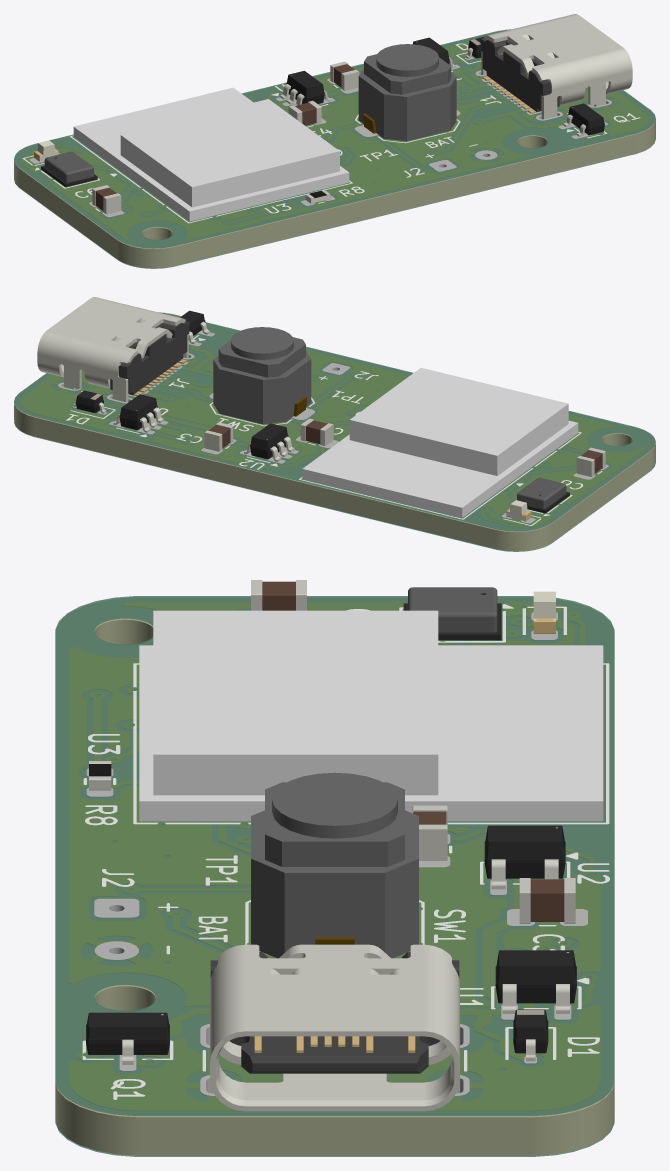
Rendered from board.glb.
3 views of the same model, one above another, from view 1: azimuth 30°, elevation 25°; view 2: azimuth 150°, elevation 25°; view 3: azimuth 270°, elevation 25° (orthographic). The views are drawn at different scales.
Parts seen in each view (by area): view 1: =>[0:1:1:32]_3ef0b1, =>[0:1:1:27]_a45536, =>[0:1:1:18]_de5c3d, =>[0:1:1:34]_9e64d3, =>[0:1:1:34]_cc1392, =>[0:1:1:18]_cbb783, =>[0:1:1:18]_7d1d02, =>[0:1:1:22]_311ade, Body_1a4fbd, =>[0:1:1:34]_e0887f, =>[0:1:1:22]_4fe520, =>[0:1:1:22]_7b2d2e (+18 smaller); view 2: =>[0:1:1:32]_3ef0b1, =>[0:1:1:18]_de5c3d, =>[0:1:1:34]_fb0a3b, =>[0:1:1:27]_a45536, =>[0:1:1:18]_cbb783, =>[0:1:1:34]_cc1392, =>[0:1:1:18]_1bbf88, =>[0:1:1:22]_e1238e, =>[0:1:1:27]_53566a, Body_aeea81, =>[0:1:1:34]_e0887f, =>[0:1:1:22]_7b2d2e (+21 smaller); view 3: =>[0:1:1:32]_3ef0b1, =>[0:1:1:18]_de5c3d, =>[0:1:1:34]_cc1392, =>[0:1:1:27]_a45536, =>[0:1:1:18]_cbb783, =>[0:1:1:34]_4c88fb, =>[0:1:1:27]_53566a, =>[0:1:1:18]_bf0028, Body_42d408, =>[0:1:1:22]_4fe520, =>[0:1:1:22]_7b2d2e, =>[0:1:1:18]_56cfcb (+33 smaller).
Boxes of the visible parts, x1=… form: =>[0:1:1:32]_3ef0b1: x1=14, y1=29, x2=655, y2=248; =>[0:1:1:27]_a45536: x1=51, y1=80, x2=529, y2=240; =>[0:1:1:18]_de5c3d: x1=121, y1=99, x2=339, y2=186; =>[0:1:1:34]_9e64d3: x1=174, y1=134, x2=634, y2=265; =>[0:1:1:34]_cc1392: x1=14, y1=32, x2=655, y2=248; =>[0:1:1:18]_cbb783: x1=74, y1=87, x2=348, y2=211; =>[0:1:1:18]_7d1d02: x1=192, y1=151, x2=339, y2=207; =>[0:1:1:22]_311ade: x1=535, y1=48, x2=632, y2=89; Body_1a4fbd: x1=407, y1=86, x2=450, y2=141; =>[0:1:1:34]_e0887f: x1=19, y1=169, x2=117, y2=259; =>[0:1:1:22]_4fe520: x1=490, y1=15, x2=600, y2=52; =>[0:1:1:22]_7b2d2e: x1=513, y1=31, x2=623, y2=69; =>[0:1:1:32]_3ef0b1: x1=14, y1=312, x2=655, y2=531; =>[0:1:1:18]_de5c3d: x1=350, y1=367, x2=568, y2=455; =>[0:1:1:34]_fb0a3b: x1=35, y1=417, x2=495, y2=548; =>[0:1:1:27]_a45536: x1=157, y1=351, x2=645, y2=503; =>[0:1:1:18]_cbb783: x1=302, y1=420, x2=577, y2=507; =>[0:1:1:34]_cc1392: x1=14, y1=315, x2=655, y2=532; =>[0:1:1:18]_1bbf88: x1=349, y1=420, x2=497, y2=475; =>[0:1:1:22]_e1238e: x1=37, y1=331, x2=134, y2=372; =>[0:1:1:27]_53566a: x1=22, y1=371, x2=116, y2=432; Body_aeea81: x1=219, y1=369, x2=262, y2=424; =>[0:1:1:34]_e0887f: x1=552, y1=452, x2=650, y2=542; =>[0:1:1:22]_7b2d2e: x1=69, y1=298, x2=179, y2=335; =>[0:1:1:32]_3ef0b1: x1=55, y1=596, x2=614, y2=1115; =>[0:1:1:18]_de5c3d: x1=153, y1=610, x2=438, y2=754; =>[0:1:1:34]_cc1392: x1=56, y1=598, x2=613, y2=1117; =>[0:1:1:27]_a45536: x1=70, y1=603, x2=506, y2=1005; =>[0:1:1:18]_cbb783: x1=139, y1=645, x2=603, y2=801; =>[0:1:1:34]_4c88fb: x1=139, y1=1117, x2=530, y2=1155; =>[0:1:1:27]_53566a: x1=70, y1=1005, x2=599, y2=1109; =>[0:1:1:18]_bf0028: x1=153, y1=754, x2=438, y2=795; Body_42d408: x1=284, y1=873, x2=385, y2=952; =>[0:1:1:22]_4fe520: x1=335, y1=944, x2=424, y2=1031; =>[0:1:1:22]_7b2d2e: x1=245, y1=944, x2=334, y2=1031; =>[0:1:1:18]_56cfcb: x1=139, y1=801, x2=603, y2=821.
Bounding box in the file's own units: 0.044 × 0.00748 × 0.02.
